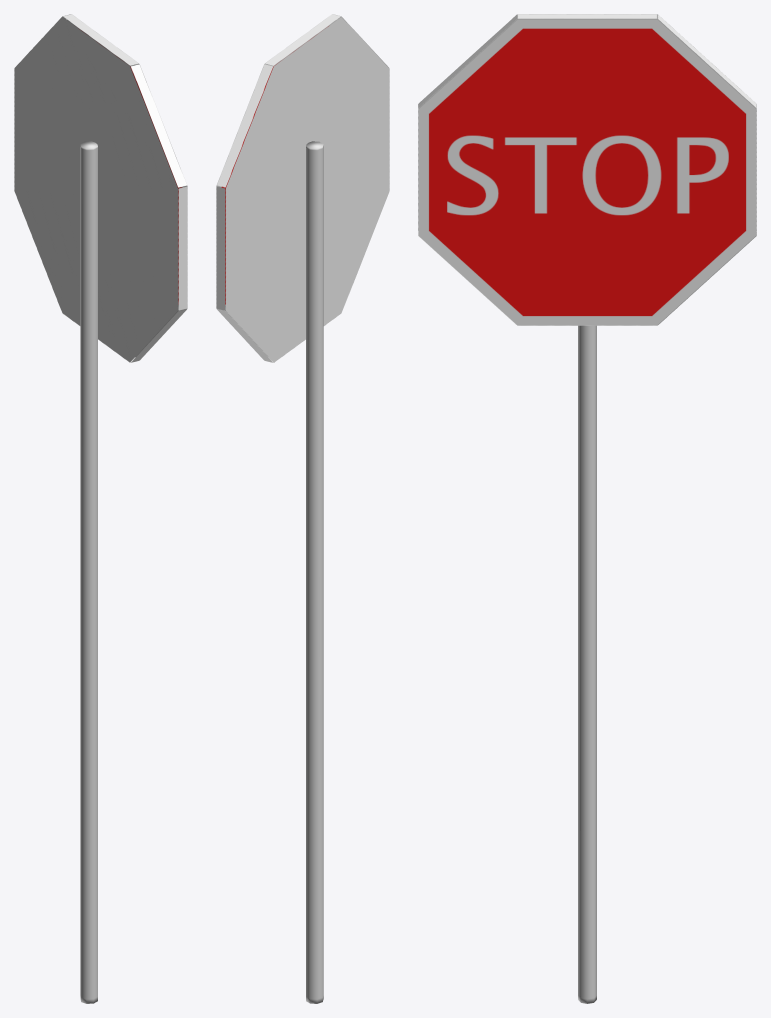
File: sign_stop.glb
3 views of the same model, side by side, from view 1: azimuth 30°, elevation 25°; view 2: azimuth 150°, elevation 25°; view 3: azimuth 270°, elevation 25° (orthographic). The views are drawn at different scales.
Visible parts, largest first — view 1: stop, pole; view 2: stop, pole; view 3: stop, pole.
Part boxes in pixels (x1,y1,x2,y2): stop: (14, 14, 187, 362); pole: (80, 141, 97, 1003); stop: (216, 14, 389, 362); pole: (306, 141, 323, 1003); stop: (418, 14, 756, 325); pole: (578, 325, 596, 1003).
Size of the model in its own units: 0.0775 by 2.9 by 0.9.
2 materials, 1 textured.
